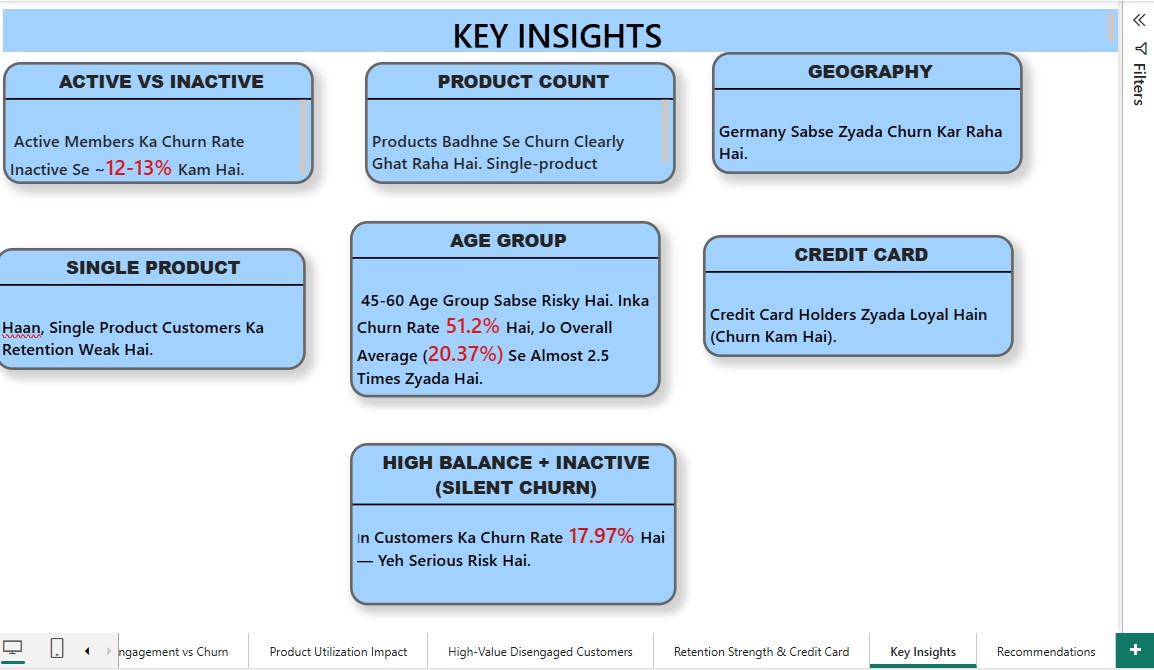

The dashboard page shown, as its layout file describes it:
{"tool":"powerbi","page":{"name":"Key Insights","canvas":[1280,720],"ordinal":5},"visuals":[{"type":"textbox","title":"ACTIVE VS INACTIVE","box":[9.4,70.1,354.4,138.8],"z":0},{"type":"textbox","title":"PRODUCT COUNT","box":[421.5,69.5,354.4,138.8],"z":1000},{"type":"textbox","title":"GEOGRAPHY","box":[816.5,57.9,354.4,138.8],"z":2000},{"type":"textbox","title":"HIGH BALANCE + INACTIVE (SILENT CHURN)","box":[404.2,503.9,371.9,184.6],"z":3000},{"type":"textbox","title":"CREDIT CARD","box":[807.1,266.8,354.4,138.8],"z":4000},{"type":"textbox","title":"AGE GROUP","box":[404.2,250.6,354.4,200.8],"z":5000},{"type":"textbox","title":"SINGLE PRODUCT","box":[0,281.4,354.4,138.8],"z":6000},{"type":"textbox","box":[9.1,9.1,1271.4,49],"z":6002}]}

Visuals, with their boxes on the page's 1280x720 design canvas (x1, y1, x2, y2). These are canvas units, not pixel positions in the 1154x670 screenshot, which may show the page scaled, cropped or inside an application window:
"ACTIVE VS INACTIVE" textbox: detection(9, 70, 364, 209)
"PRODUCT COUNT" textbox: detection(422, 70, 776, 208)
"GEOGRAPHY" textbox: detection(816, 58, 1171, 197)
"HIGH BALANCE + INACTIVE (SILENT CHURN)" textbox: detection(404, 504, 776, 688)
"CREDIT CARD" textbox: detection(807, 267, 1162, 406)
"AGE GROUP" textbox: detection(404, 251, 759, 451)
"SINGLE PRODUCT" textbox: detection(0, 281, 354, 420)
textbox: detection(9, 9, 1280, 58)
